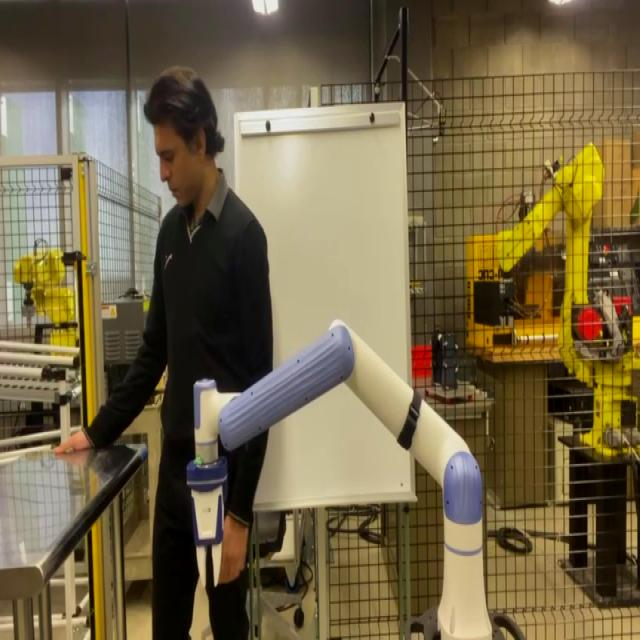robot: (188, 318, 526, 638)
